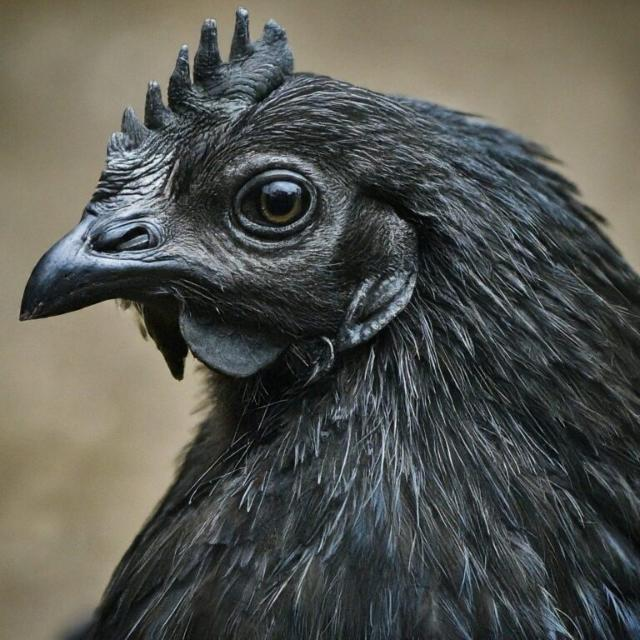Chicken: (18, 11, 639, 640)
